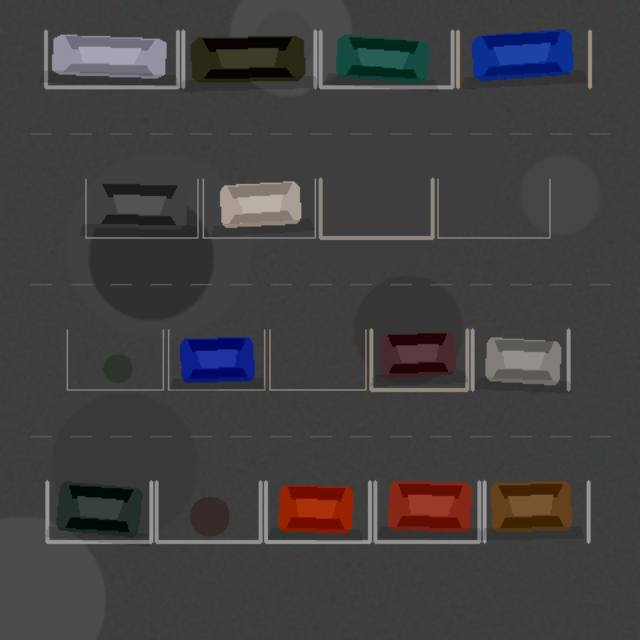space-empty: (320, 179, 432, 237), (437, 179, 549, 237), (156, 481, 260, 541), (67, 329, 163, 389), (269, 329, 365, 389)
space-occupied: (45, 31, 177, 87), (183, 31, 315, 87), (320, 31, 452, 87), (457, 31, 589, 87), (85, 179, 197, 237), (203, 179, 315, 237), (47, 481, 151, 541), (265, 481, 369, 541), (375, 481, 479, 541), (484, 481, 588, 541), (168, 329, 264, 389), (371, 329, 467, 389), (472, 329, 568, 389)
